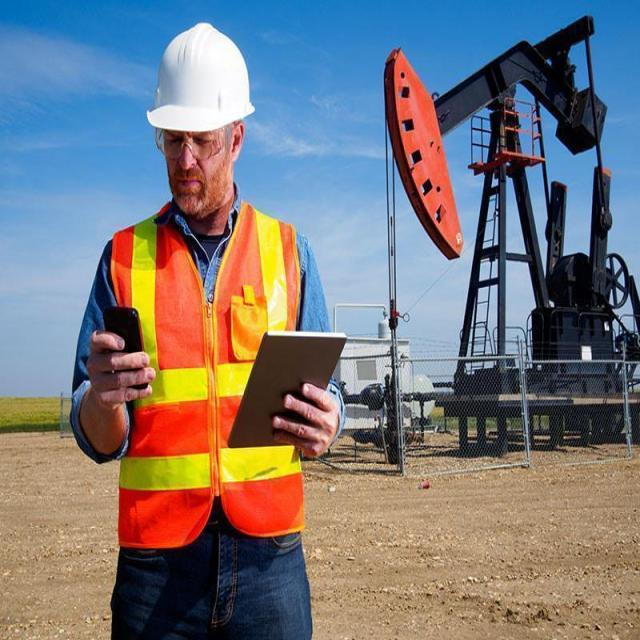face_nomask: (160, 126, 238, 220)
glasses: (150, 119, 233, 164)
hand_noglove: (89, 323, 156, 409), (274, 380, 338, 462)
head_helmet: (134, 17, 253, 139)
person: (80, 18, 334, 640)
vest: (98, 200, 334, 542)
